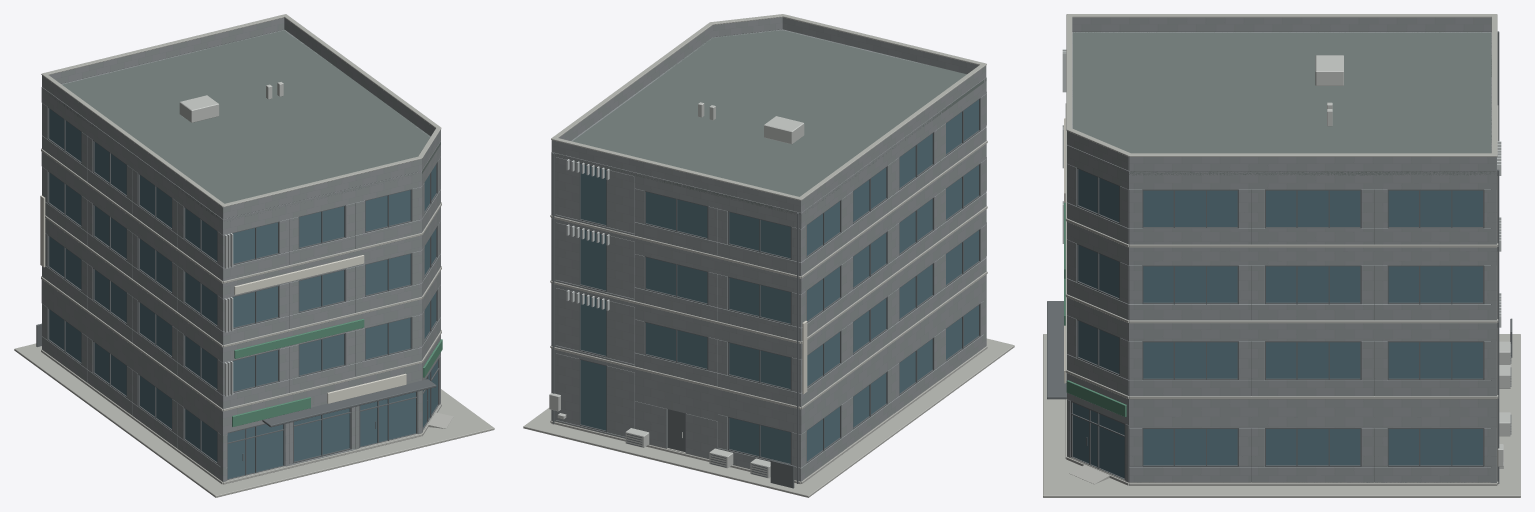
Rendered from COMMERCIAL_03_MODERN_CORNER.fbx.
3 views of the same model, side by side, from view 1: azimuth 30°, elevation 25°; view 2: azimuth 150°, elevation 25°; view 3: azimuth 270°, elevation 25° (orthographic). The views are drawn at different scales.
Parts seen in each view (by area): view 1: UNITY_ASSET_COMMERCIAL_03_MODERN_CORNER; view 2: UNITY_ASSET_COMMERCIAL_03_MODERN_CORNER; view 3: UNITY_ASSET_COMMERCIAL_03_MODERN_CORNER.
Part boxes in pixels (bbox=[...]): UNITY_ASSET_COMMERCIAL_03_MODERN_CORNER: bbox=[14, 14, 494, 497]; UNITY_ASSET_COMMERCIAL_03_MODERN_CORNER: bbox=[523, 14, 1014, 497]; UNITY_ASSET_COMMERCIAL_03_MODERN_CORNER: bbox=[1043, 14, 1520, 497].
Size of the model in its own units: 14.4 by 13.88 by 18.
Materials: 10 (1 with a texture image).
